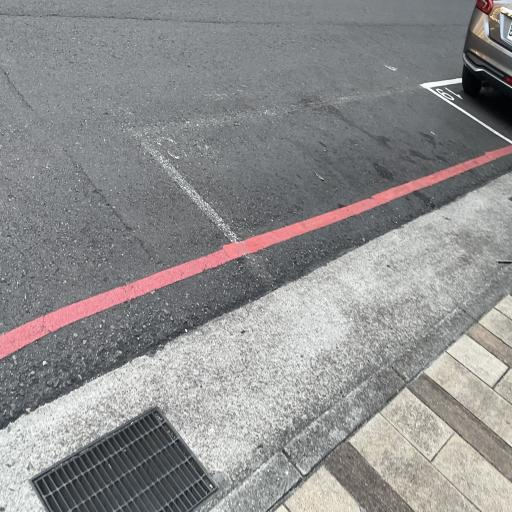redline: (0, 138, 512, 367)
